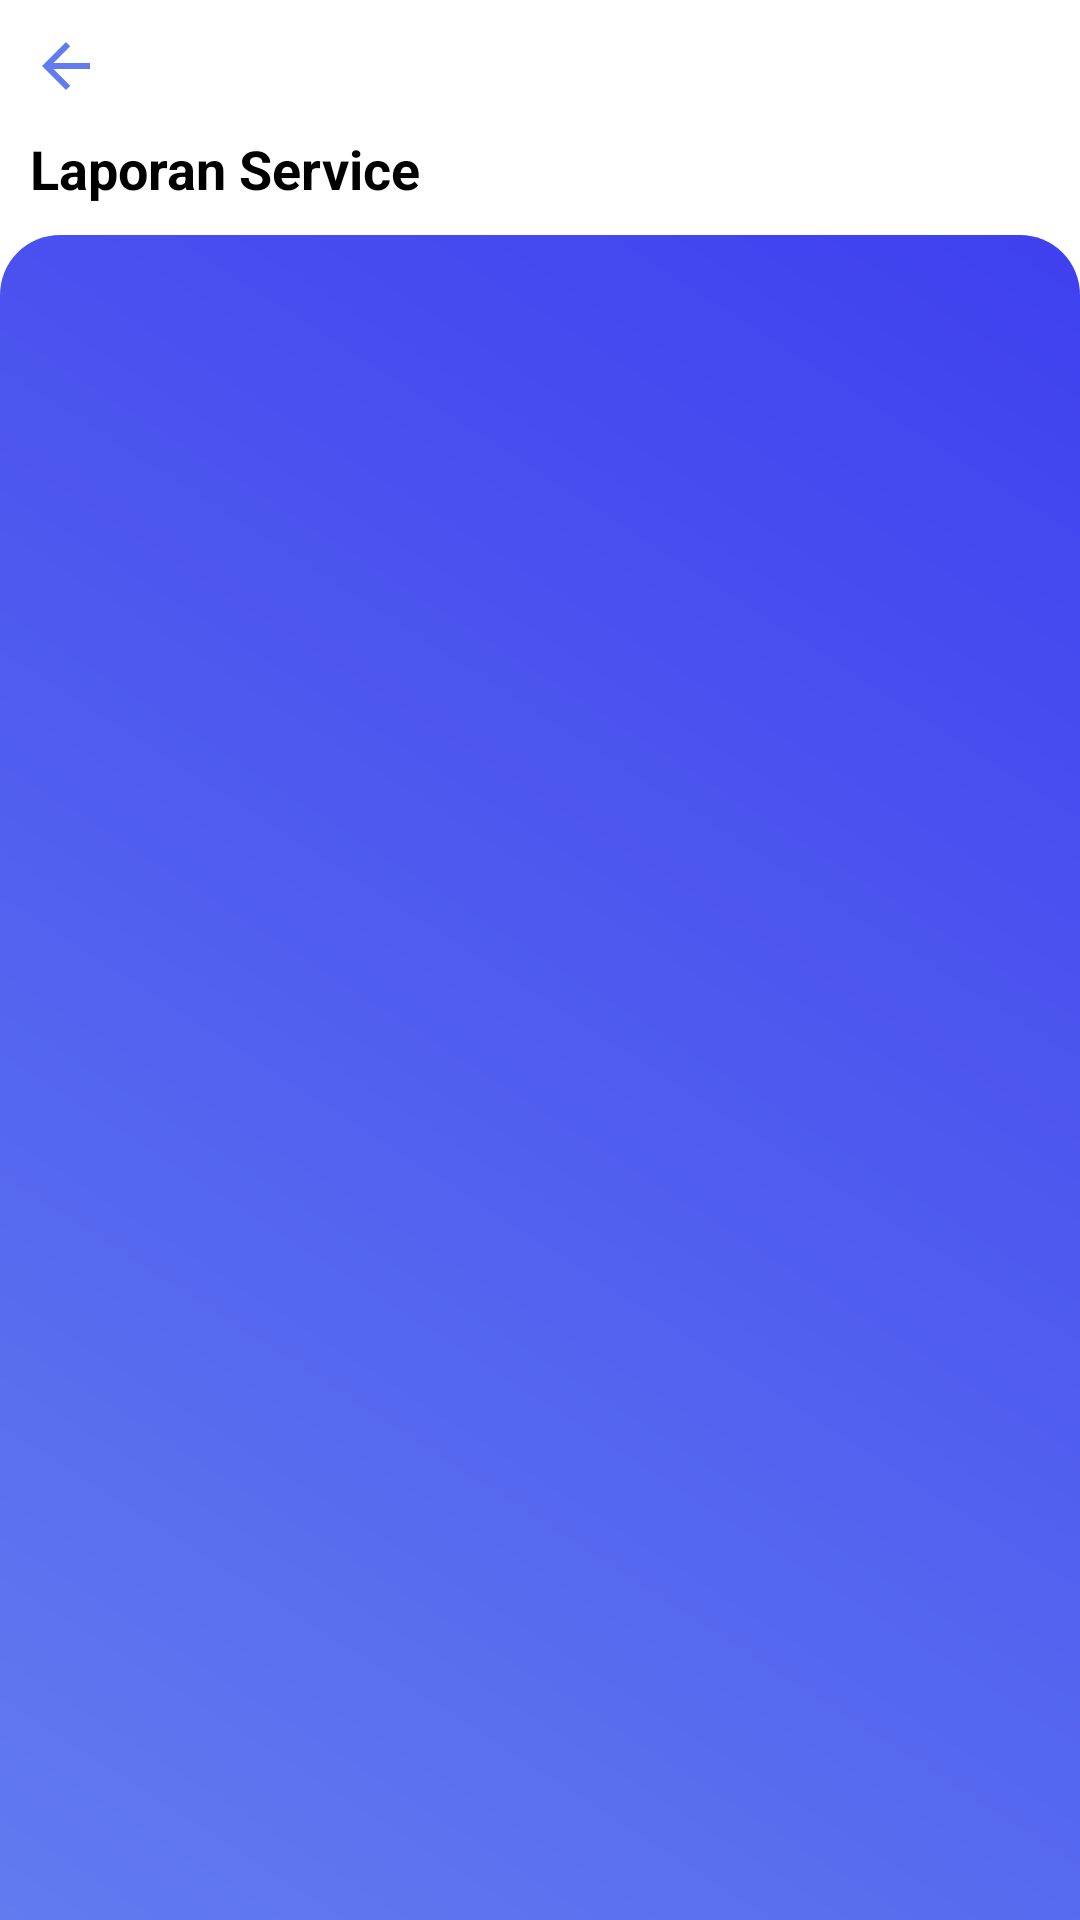

Where to tap for icons on this 1080 x 1920 app screen, as (x=x, y=y):
arrow back: (x=66, y=66)
